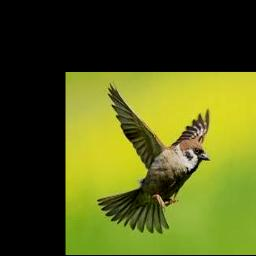Sparrow: (97, 81, 210, 234)
